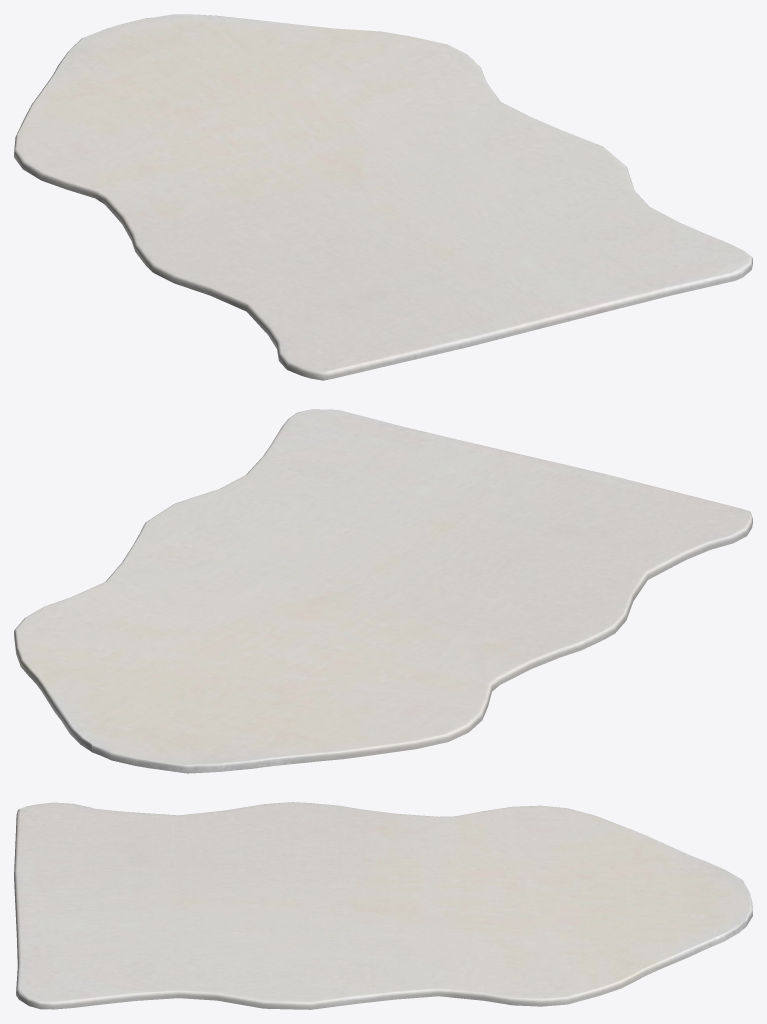
The model's file is toftlund_dywan_20420241.glb.
3 views of the same model, one above another, from view 1: azimuth 30°, elevation 25°; view 2: azimuth 150°, elevation 25°; view 3: azimuth 270°, elevation 25° (orthographic). The views are drawn at different scales.
Parts seen in each view (by area): view 1: toftlund_dywan_20420241; view 2: toftlund_dywan_20420241; view 3: toftlund_dywan_20420241.
Part boxes in pixels (x1=…): toftlund_dywan_20420241: x1=14, y1=14, x2=752, y2=380; toftlund_dywan_20420241: x1=14, y1=409, x2=752, y2=773; toftlund_dywan_20420241: x1=14, y1=802, x2=752, y2=1009.
Size of the model in its own units: 0.55 by 0.00851 by 0.85.
1 material, 1 textured.
